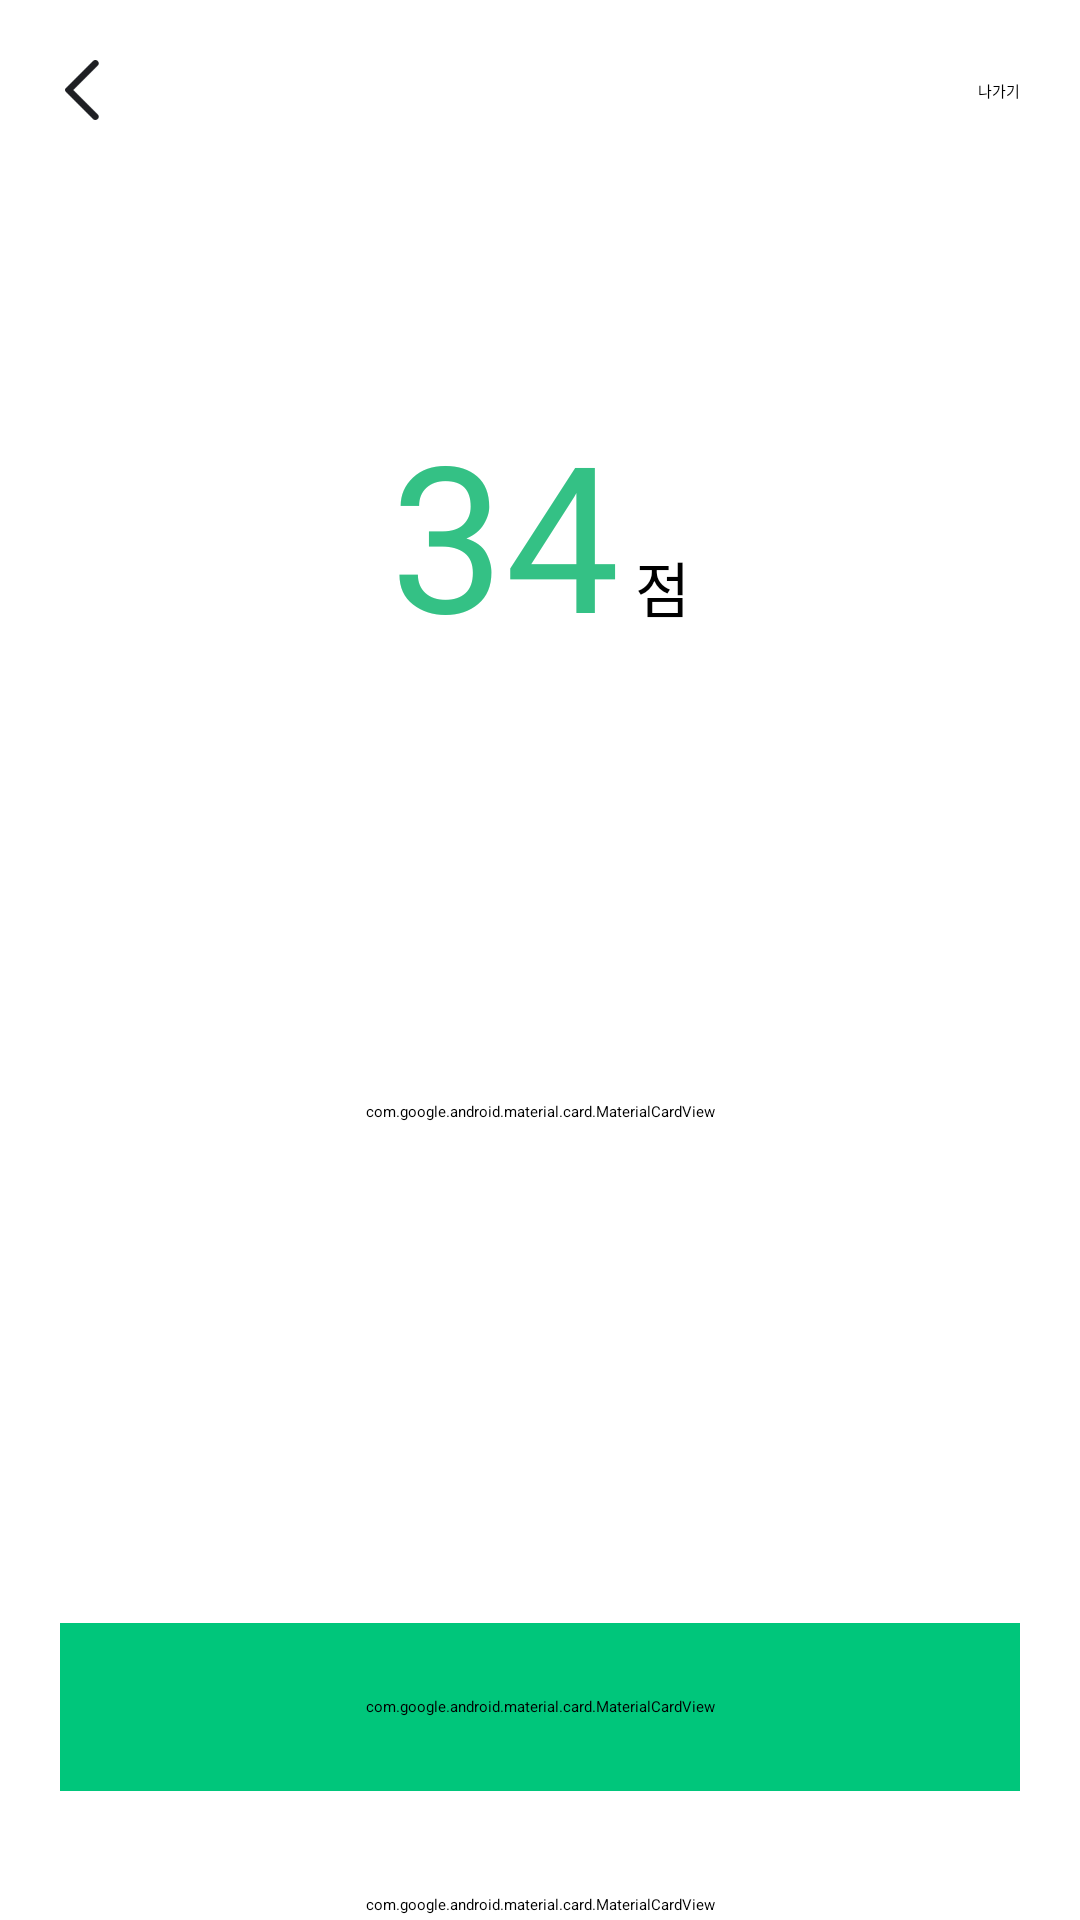

Screen size 1080x1920. Icon name, then its center in pixels as point (x, y):
back: point (82, 90)
